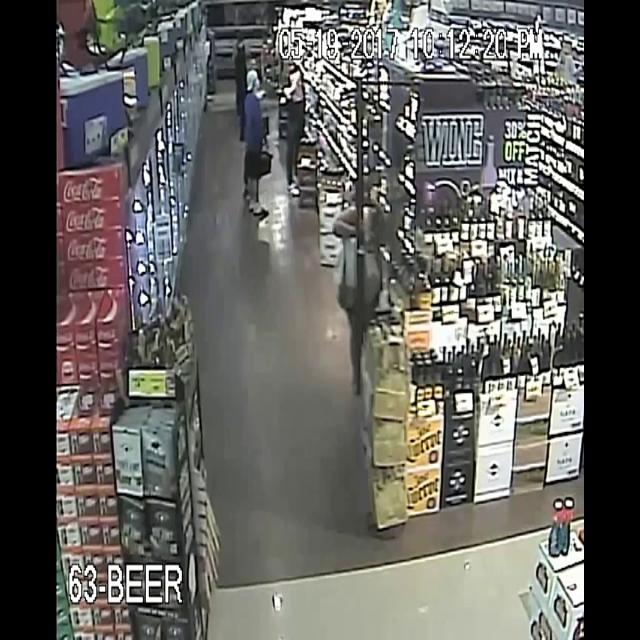Product: (357, 197, 380, 249)
normal: (232, 31, 290, 231)
shoplifting: (324, 136, 424, 407)
